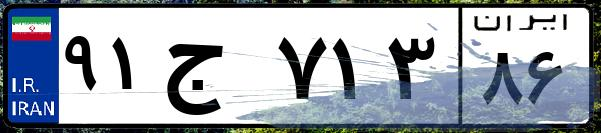1: (330, 28, 385, 110), (110, 28, 158, 98)
3: (385, 28, 445, 110)
6: (525, 38, 570, 115)
7: (270, 28, 330, 110)
8: (475, 38, 525, 113)
9: (57, 26, 110, 100)
ج: (158, 20, 270, 120)
